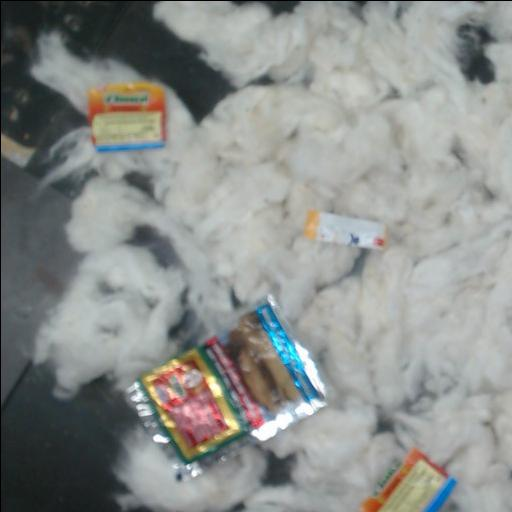conveyor belt: (1, 1, 232, 512), (458, 25, 495, 83), (265, 454, 291, 484), (263, 1, 297, 14)
cotton: (1, 1, 512, 512)
packet: (126, 295, 326, 481), (361, 449, 455, 512), (87, 80, 166, 152), (304, 211, 384, 248)
